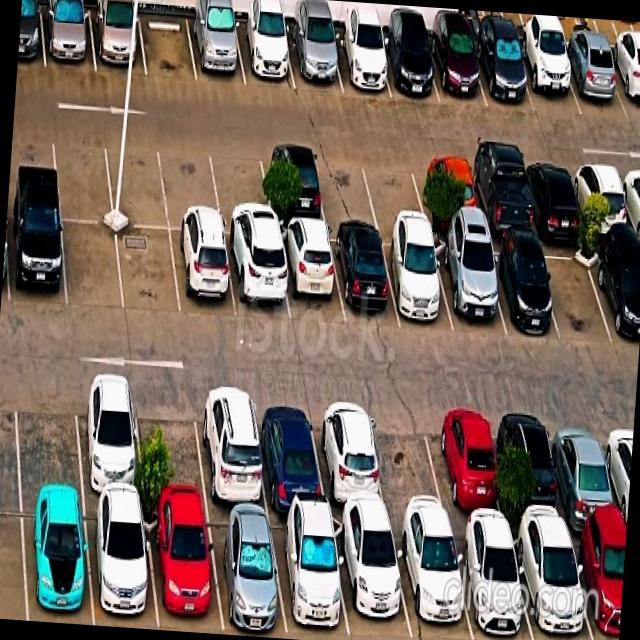car: (205, 509, 287, 636), (269, 513, 349, 640), (331, 517, 412, 640), (144, 504, 222, 631), (309, 397, 388, 519), (428, 403, 505, 527), (391, 523, 472, 640), (84, 499, 158, 627), (451, 524, 532, 640), (547, 409, 623, 531), (510, 527, 592, 640), (21, 496, 92, 625), (194, 386, 267, 510), (252, 391, 326, 512), (74, 376, 144, 501), (497, 406, 568, 529), (431, 237, 506, 336), (380, 232, 453, 332), (482, 240, 558, 335), (329, 228, 399, 325), (276, 225, 344, 324), (568, 529, 626, 640), (170, 230, 236, 318), (7, 211, 66, 308), (224, 236, 290, 322), (465, 157, 535, 236), (590, 240, 640, 348), (259, 145, 326, 223), (414, 154, 481, 231), (558, 44, 627, 118), (514, 42, 581, 115), (569, 160, 632, 237), (521, 159, 585, 234), (472, 35, 534, 111), (426, 33, 486, 106), (377, 34, 439, 102), (234, 20, 295, 89), (329, 30, 390, 97), (187, 15, 245, 85), (89, 8, 146, 75), (285, 27, 342, 91), (40, 5, 95, 71), (605, 49, 640, 119)
free: (366, 401, 449, 523), (134, 381, 207, 506), (14, 374, 82, 495), (537, 238, 614, 340), (208, 141, 274, 237), (103, 133, 168, 228), (159, 138, 222, 231), (116, 226, 180, 317), (51, 129, 113, 222), (62, 221, 123, 310), (313, 147, 378, 224), (361, 150, 427, 225), (138, 11, 196, 81)
